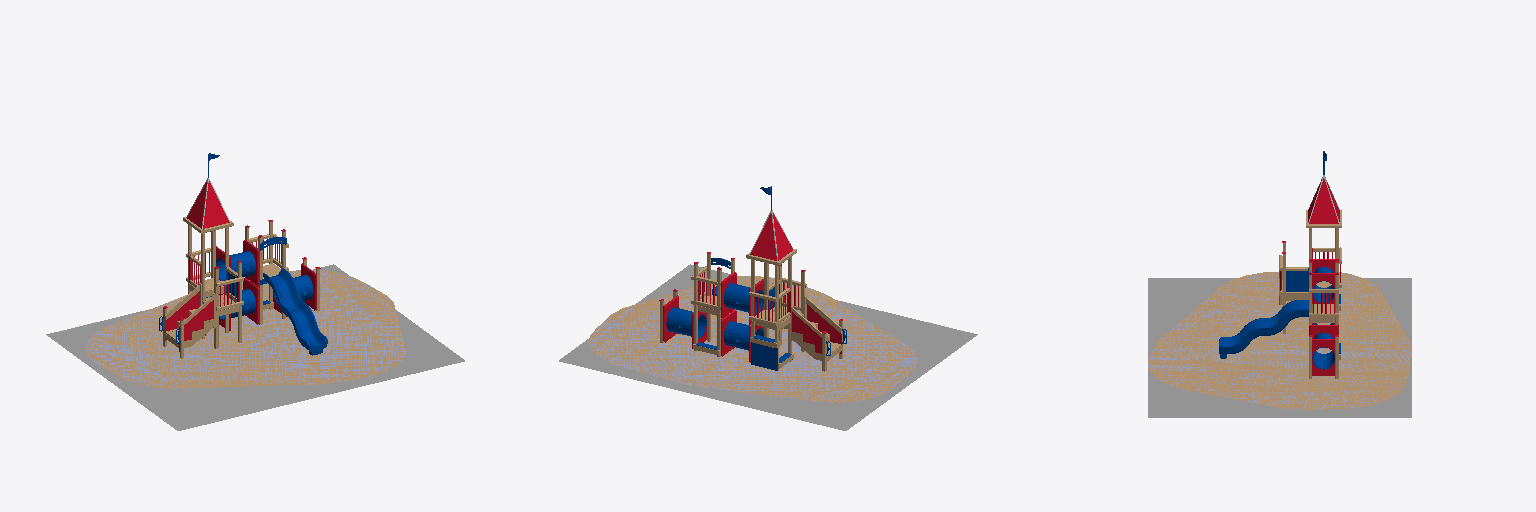
The model's file is Juegos.obj.
3 views of the same model, side by side, from view 1: azimuth 30°, elevation 25°; view 2: azimuth 150°, elevation 25°; view 3: azimuth 270°, elevation 25° (orthographic).
Parts seen in each view (by area): view 1: 100, ground_1, 101, 156, 59, 151, 182, 189, 176; view 2: 100, ground_1, 101, 156, 151, 182, 189, 51; view 3: 100, ground_1, 101, 59, 156, 182, 189, 151.
Part boxes in pixels (x1,y1,x2,y2): 100: (85, 270, 405, 388); ground_1: (46, 264, 464, 430); 101: (85, 270, 406, 388); 156: (163, 222, 319, 358); 59: (263, 268, 327, 351); 151: (216, 251, 313, 319); 182: (187, 181, 229, 228); 189: (243, 240, 316, 323); 176: (189, 264, 280, 315); 100: (589, 276, 916, 402); ground_1: (559, 264, 977, 430); 101: (589, 276, 917, 402); 156: (660, 254, 842, 371); 151: (666, 283, 763, 350); 182: (750, 213, 792, 260); 189: (663, 272, 736, 355); 51: (751, 342, 777, 370); 100: (1148, 272, 1411, 410); ground_1: (1148, 278, 1411, 417); 101: (1148, 272, 1411, 409); 59: (1219, 300, 1308, 353); 156: (1279, 228, 1338, 378); 182: (1308, 178, 1339, 223); 189: (1312, 273, 1334, 375); 151: (1312, 267, 1334, 369).
Bounding box in the file's own units: 805 × 490 × 640.